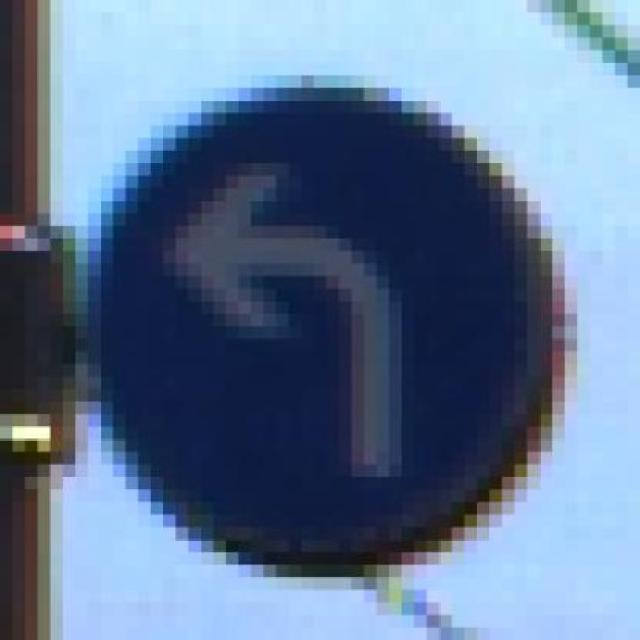Turn left ahead: (75, 62, 578, 590)
